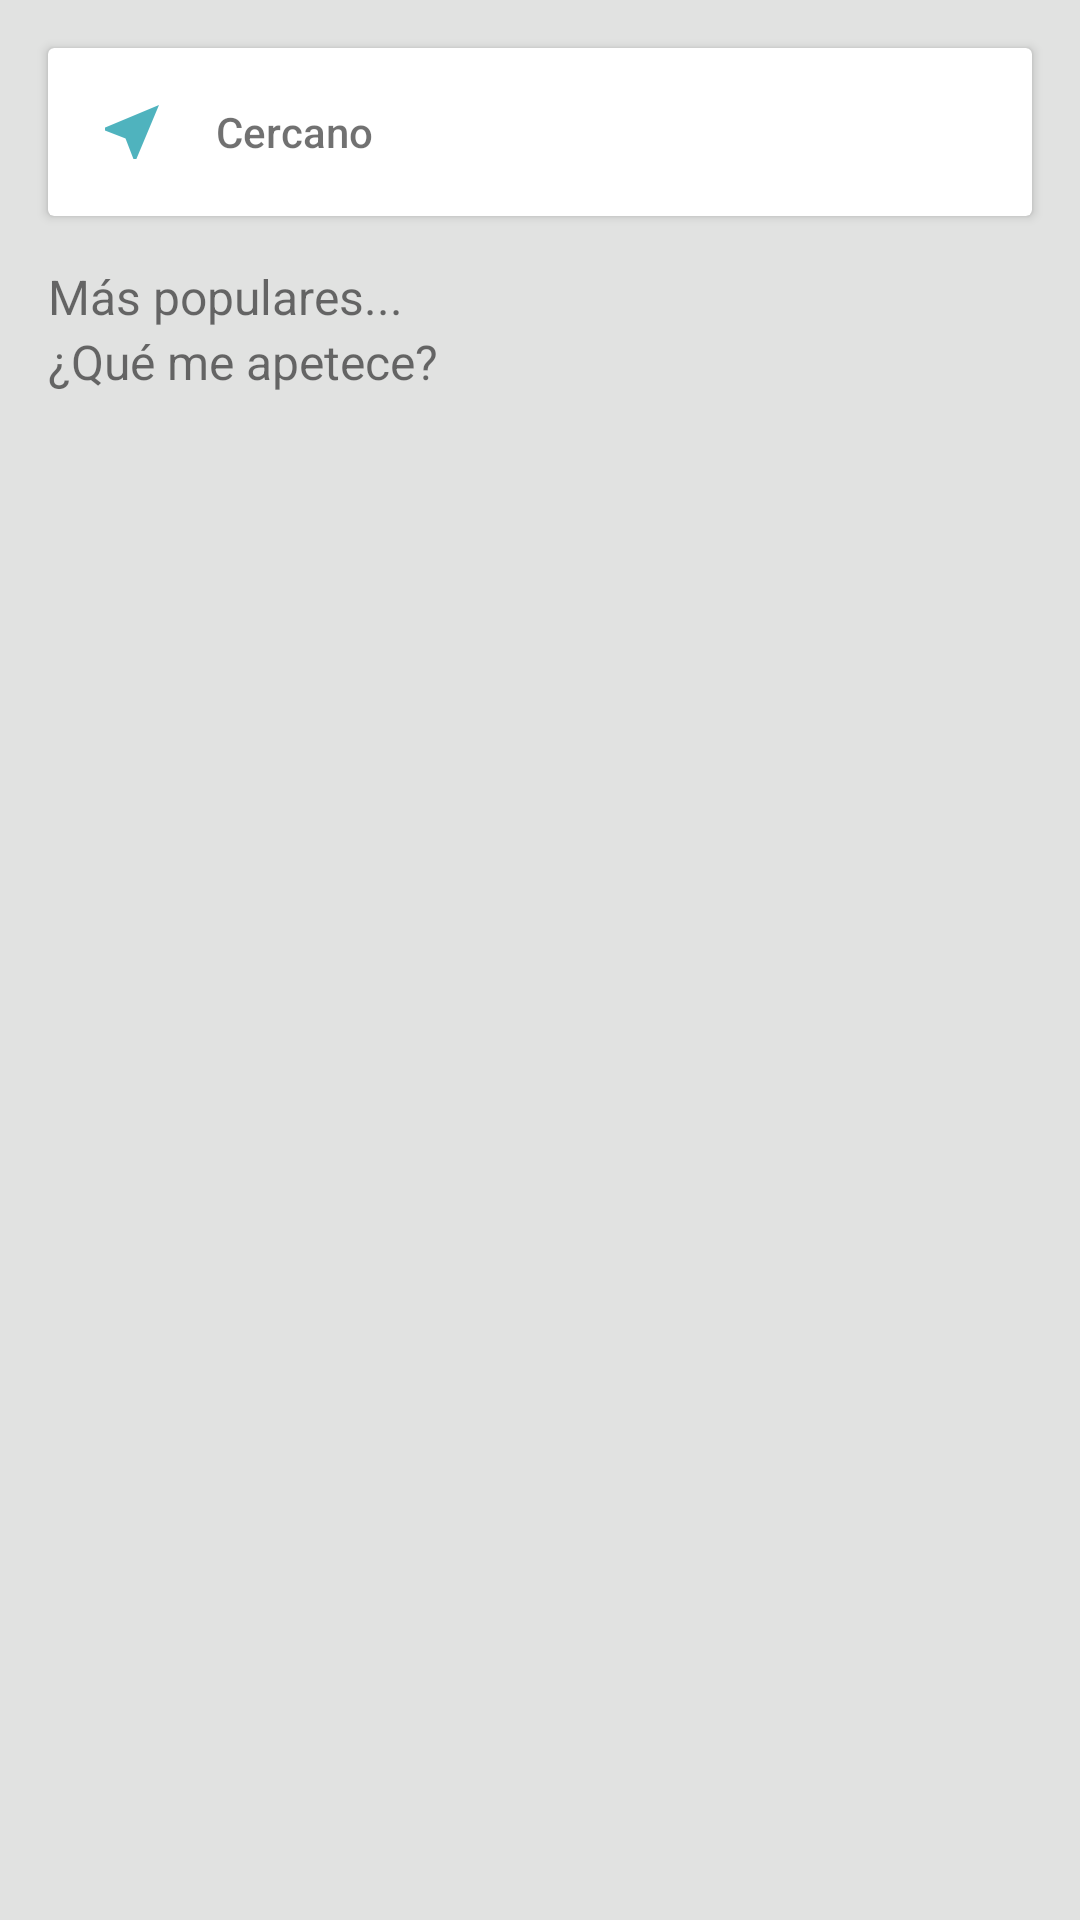

Locate icon controls on the screen. Image size 1080x1920, boxes as (x1, y1, x2, y2).
near me: (105, 105, 159, 159)
